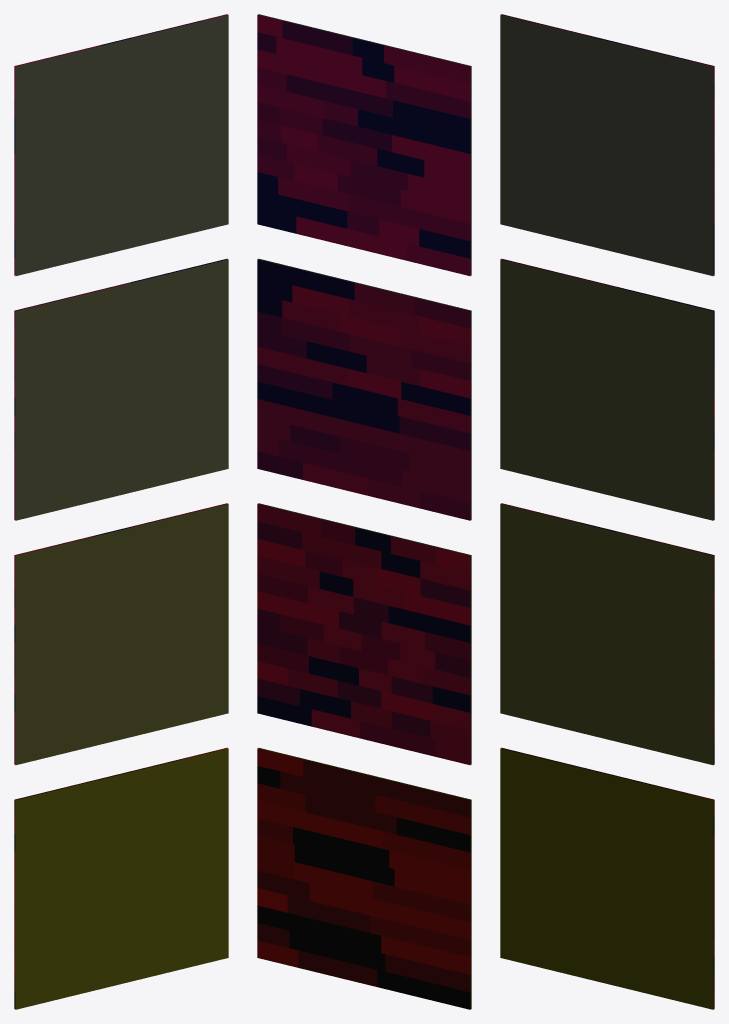
Rendered from Wall_Lining_Straight.glb.
The picture shows the model from 3 angles, left to right: view 1: azimuth 30°, elevation 25°; view 2: azimuth 150°, elevation 25°; view 3: azimuth 330°, elevation 25°; orthographic projection.
Visible parts, largest first — view 1: Wall_Lining_Straight; view 2: Wall_Lining_Straight; view 3: Wall_Lining_Straight.
Part boxes in pixels (box(x1,y1,x2,y2)): Wall_Lining_Straight: box(14, 14, 228, 1009); Wall_Lining_Straight: box(257, 14, 471, 1009); Wall_Lining_Straight: box(500, 14, 714, 1009).
Size of the model in its own units: 6.4 by 27 by 0.05.
